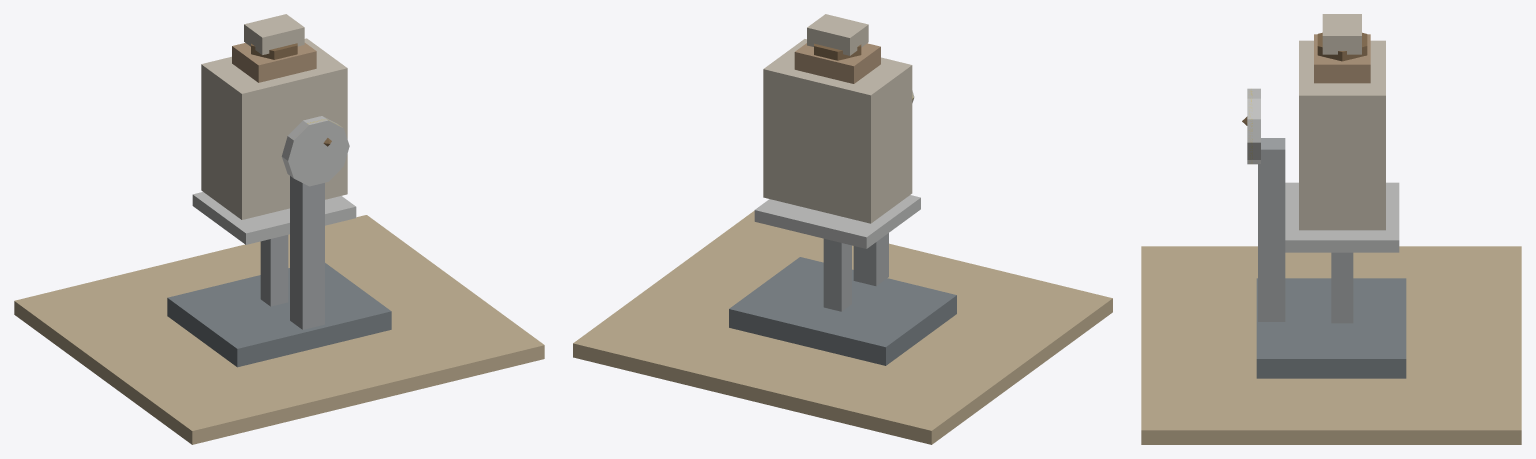
File: cacao_estacion_05_kilos_registrados.glb
3 views of the same model, side by side, from view 1: azimuth 30°, elevation 25°; view 2: azimuth 150°, elevation 25°; view 3: azimuth 270°, elevation 25° (orthographic). The views are drawn at different scales.
Parts seen in each view (by area): view 1: model; view 2: model; view 3: model.
Boxes of the visible parts, left/top/right/bottom form: model: left=14, top=14, right=544, bottom=444; model: left=573, top=14, right=1112, bottom=444; model: left=1141, top=14, right=1521, bottom=444.
Bounding box in the file's own units: 1.6 × 1.33 × 1.4.
